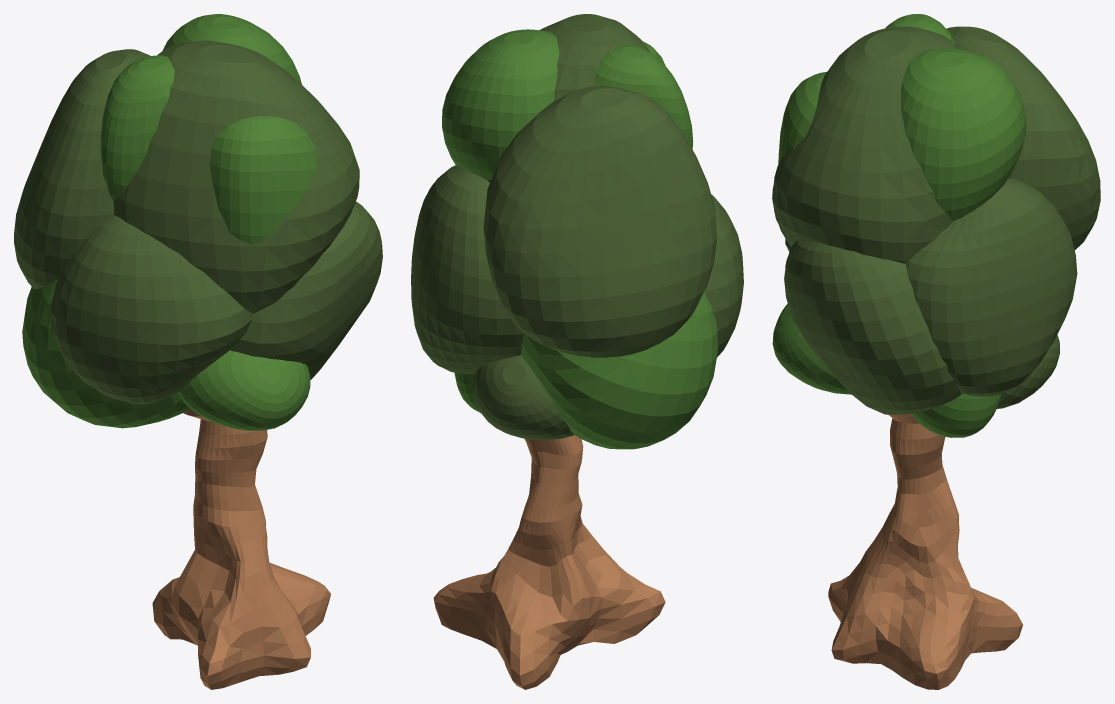
The model's file is F_Tree.fbx.
3 renders of one model, left to right at view 1: azimuth 30°, elevation 25°; view 2: azimuth 150°, elevation 25°; view 3: azimuth 270°, elevation 25°, orthographic. The views are drawn at different scales.
Visible parts, largest first — view 1: TREE; view 2: TREE; view 3: TREE.
Boxes of the visible parts, bbox=[...] form: TREE: bbox=[14, 14, 382, 689]; TREE: bbox=[411, 14, 743, 689]; TREE: bbox=[772, 14, 1100, 689].
Bounding box in the file's own units: 288 × 563 × 276.
